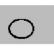no answer: (7, 16, 35, 41)
